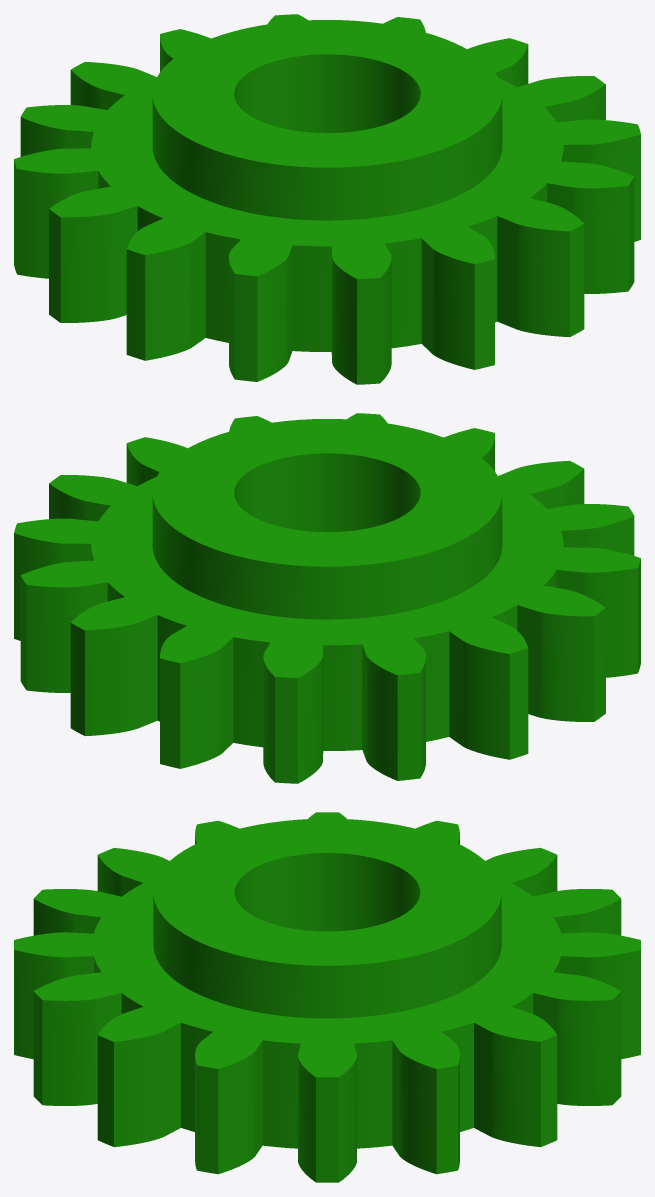
Rendered from gear16.glb.
3 views of the same model, one above another, from view 1: azimuth 30°, elevation 25°; view 2: azimuth 150°, elevation 25°; view 3: azimuth 270°, elevation 25° (orthographic).
Parts seen in each view (by area): view 1: RootNode (gltf orientation matrix); view 2: RootNode (gltf orientation matrix); view 3: RootNode (gltf orientation matrix).
Boxes of the visible parts, x1,y1,x2,y2 form: RootNode (gltf orientation matrix): (14,14,640,384); RootNode (gltf orientation matrix): (14,413,640,783); RootNode (gltf orientation matrix): (14,812,640,1182).
Size of the model in its own units: 54 by 15 by 54.
